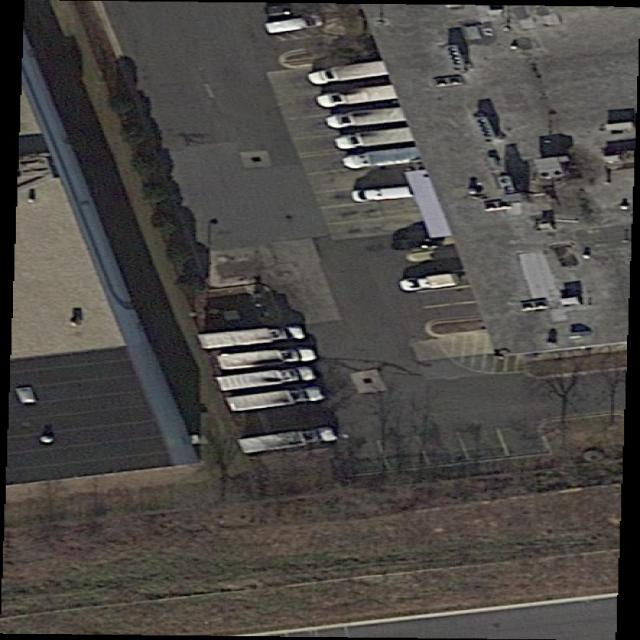large-vehicle: (196, 325, 305, 353), (237, 426, 338, 456), (225, 388, 324, 414), (215, 366, 316, 391), (218, 347, 316, 372), (306, 60, 392, 86), (316, 85, 400, 108), (344, 147, 423, 171), (327, 108, 407, 130), (335, 128, 415, 150)
small-vehicle: (394, 272, 471, 293), (263, 13, 331, 35), (350, 187, 415, 202), (394, 234, 444, 248)
